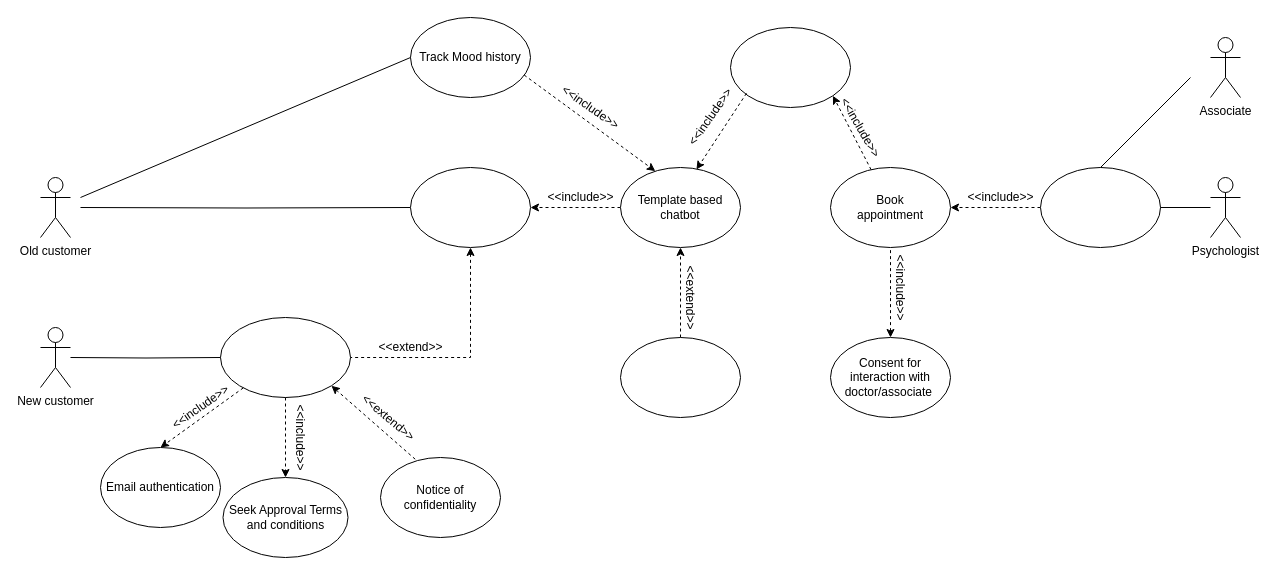
Image size: 1276x575. Some labels were removed from this diagram. Each missing label, with the box of its shape:
Assess Severity: (730, 26, 850, 108)
Interaction with user: (1040, 166, 1160, 248)
Relevant Articles: (620, 336, 740, 418)
User login: (410, 166, 530, 248)
User Sign up: (220, 316, 350, 398)
